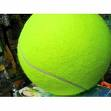tennis ball: (15, 13, 111, 96)
